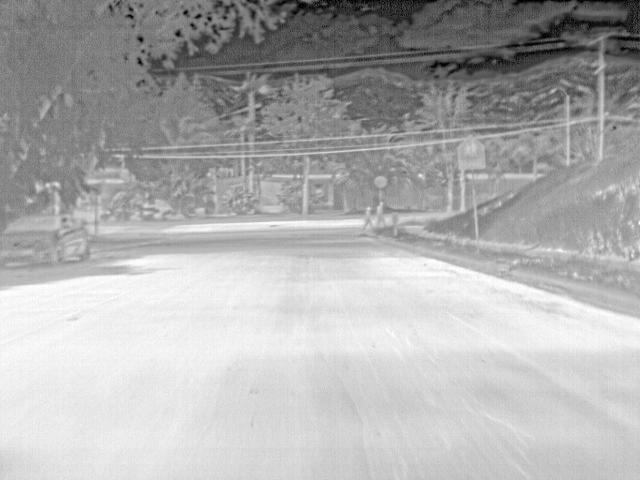car: (0, 212, 92, 269)
person: (373, 200, 385, 227), (360, 204, 372, 230)
